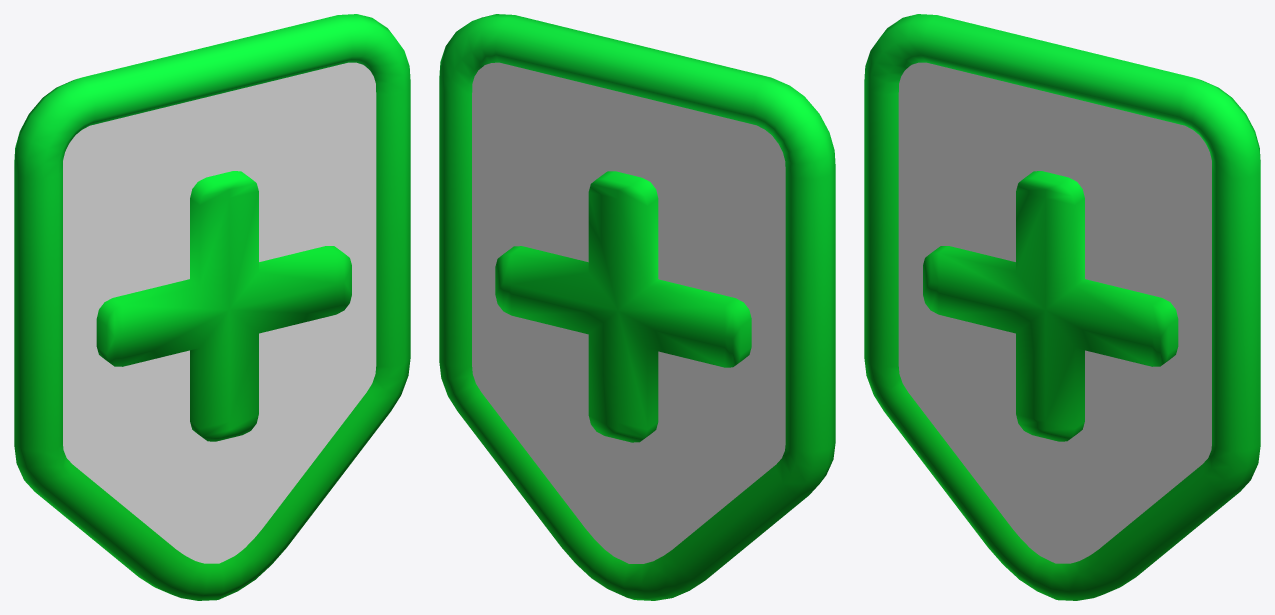
Rendered from Collectable_Health_01.fbx.
3 renders of one model, left to right at view 1: azimuth 30°, elevation 25°; view 2: azimuth 150°, elevation 25°; view 3: azimuth 330°, elevation 25°, orthographic.
Parts seen in each view (by area): view 1: Collectable_Health_01; view 2: Collectable_Health_01; view 3: Collectable_Health_01.
Boxes of the visible parts, left/top/right/bottom form: Collectable_Health_01: left=14, top=14, right=410, bottom=600; Collectable_Health_01: left=439, top=14, right=835, bottom=600; Collectable_Health_01: left=864, top=14, right=1260, bottom=600.
Bounding box in the file's own units: 44.86 × 60.39 × 7.21.
Materials: 1 (1 with a texture image).
